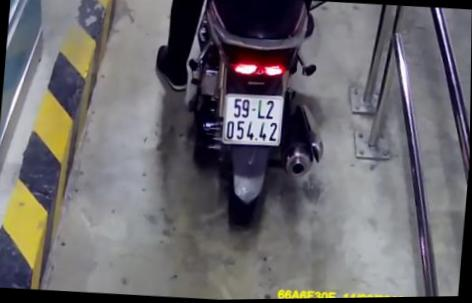LP: (220, 91, 286, 148)
